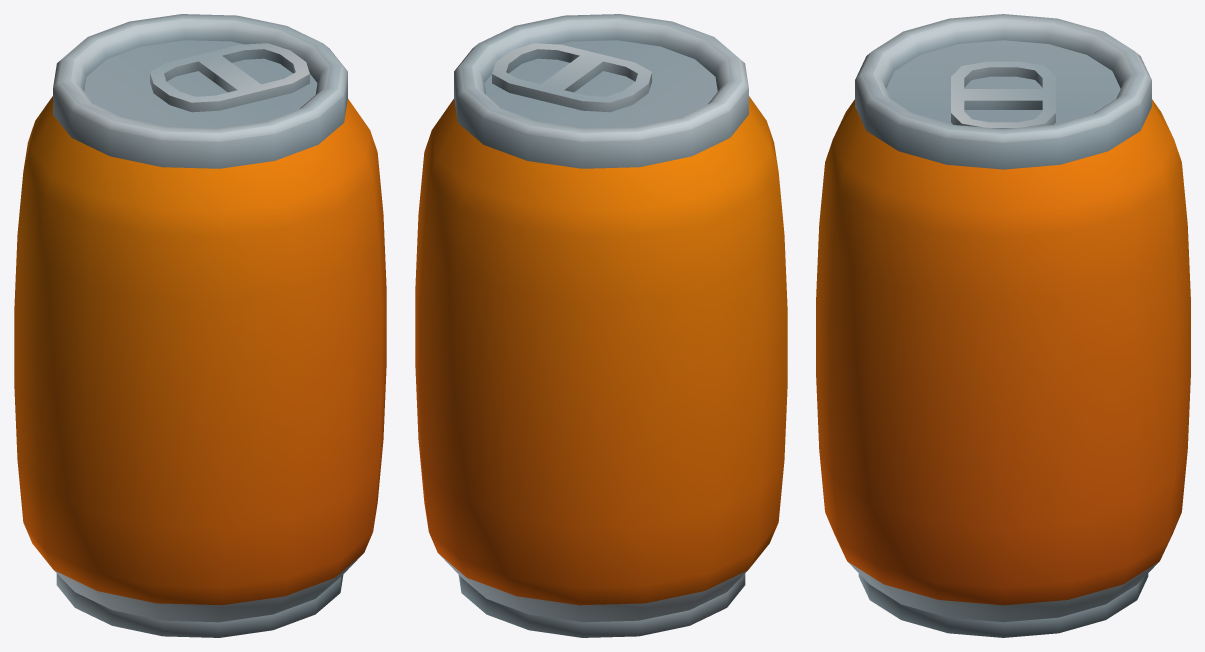
File: can_010.fbx
3 views of the same model, side by side, from view 1: azimuth 30°, elevation 25°; view 2: azimuth 150°, elevation 25°; view 3: azimuth 270°, elevation 25° (orthographic).
Parts seen in each view (by area): view 1: can_010; view 2: can_010; view 3: can_010.
Boxes of the visible parts, x1,y1,x2,y2 form: can_010: (14,14,386,637); can_010: (415,14,787,637); can_010: (816,14,1190,637).
Size of the model in its own units: 7.77 by 7.77 by 11.64.
